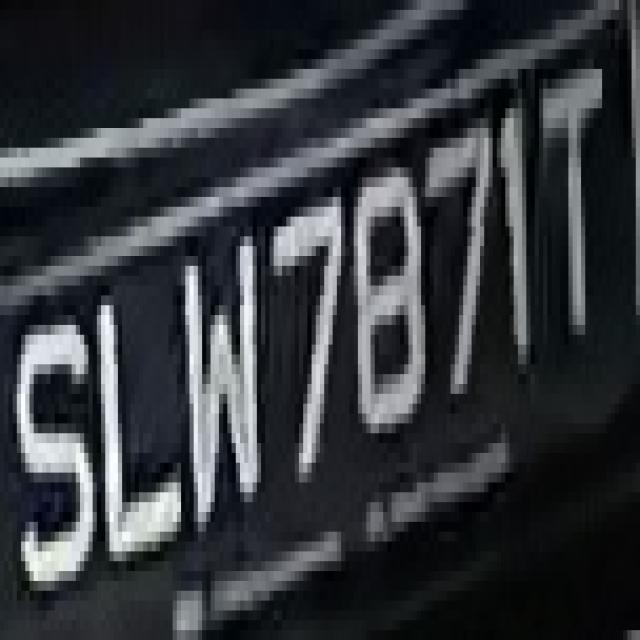1: (480, 79, 543, 433)
7: (257, 167, 345, 522), (404, 89, 497, 424)
8: (328, 118, 426, 463)
L: (76, 276, 185, 590)
S: (0, 255, 88, 620)
T: (530, 59, 619, 325)
V: (168, 236, 266, 542)
